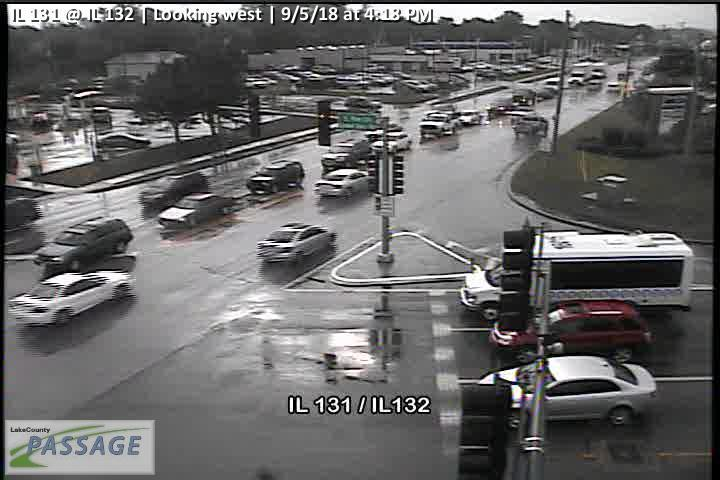SUV: (488, 299, 657, 365), (30, 216, 134, 275), (135, 168, 204, 208), (245, 159, 305, 193)
Sedan: (476, 356, 657, 426), (4, 267, 136, 328), (254, 221, 337, 264), (156, 192, 235, 231), (312, 164, 378, 200), (369, 129, 413, 153), (93, 132, 151, 150)
Truck: (458, 232, 695, 321), (318, 136, 370, 175)
